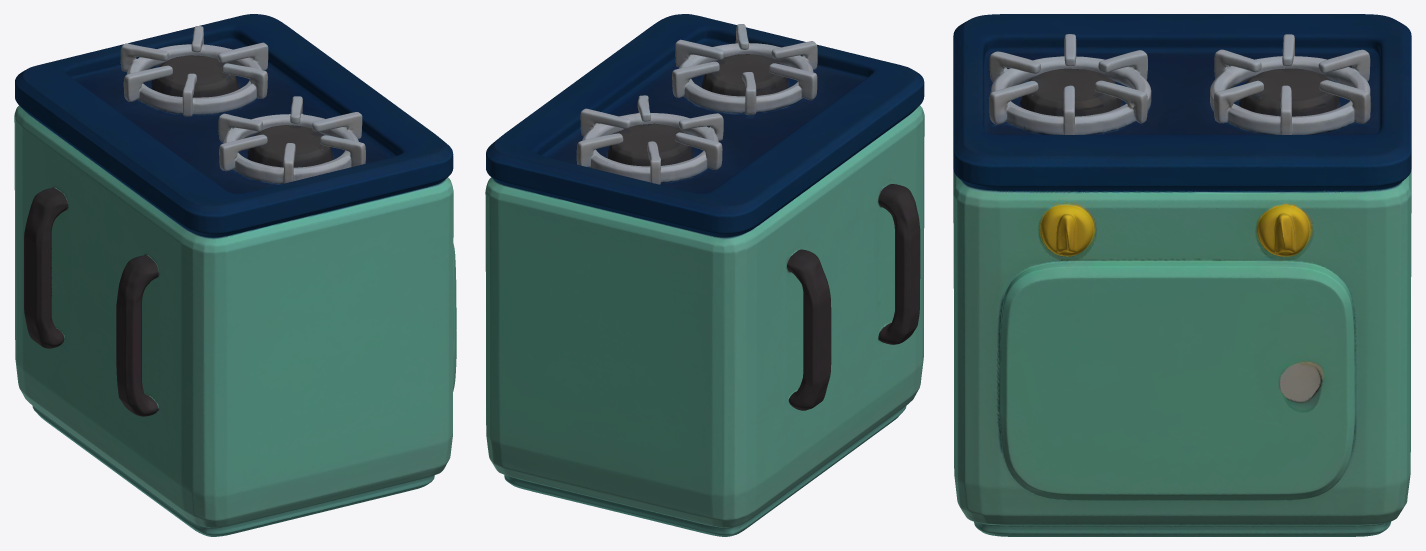
File: Mod_Stove.glb
The picture shows the model from 3 angles, left to right: view 1: azimuth 30°, elevation 25°; view 2: azimuth 150°, elevation 25°; view 3: azimuth 270°, elevation 25°; orthographic projection. The views are drawn at different scales.
Visible parts, largest first — view 1: tripo_node_d7f03df4-f9f3-4b8e-b4e8-dc7fac851bac; view 2: tripo_node_d7f03df4-f9f3-4b8e-b4e8-dc7fac851bac; view 3: tripo_node_d7f03df4-f9f3-4b8e-b4e8-dc7fac851bac.
Boxes of the visible parts, x1=… form: tripo_node_d7f03df4-f9f3-4b8e-b4e8-dc7fac851bac: x1=14, y1=14, x2=456, y2=536; tripo_node_d7f03df4-f9f3-4b8e-b4e8-dc7fac851bac: x1=485, y1=14, x2=924, y2=536; tripo_node_d7f03df4-f9f3-4b8e-b4e8-dc7fac851bac: x1=953, y1=14, x2=1411, y2=536.
Bounding box in the file's own units: 0.9217 × 0.9758 × 1.
Materials: 1 (1 with a texture image).
